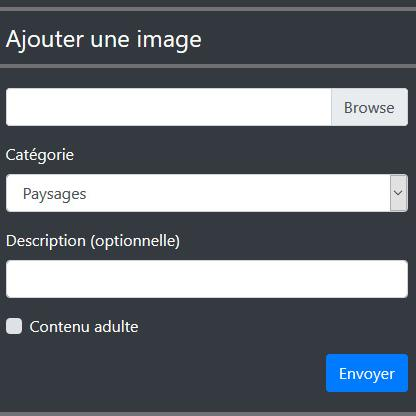button: (324, 353, 410, 393)
checkbox: (4, 316, 24, 336)
checkbox_with_label: (2, 313, 140, 338)
field: (5, 258, 409, 300), (4, 87, 407, 128), (4, 173, 410, 213)
field_with_label: (2, 231, 411, 303), (1, 147, 413, 215)
